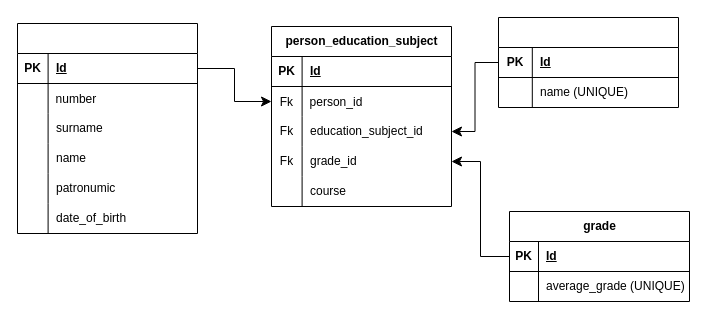
Image size: 707x319. Some labels were removed from this diagram. Each missing label, with the box of its shape:
education_subject: (498, 16, 678, 108)
person: (16, 22, 198, 234)
